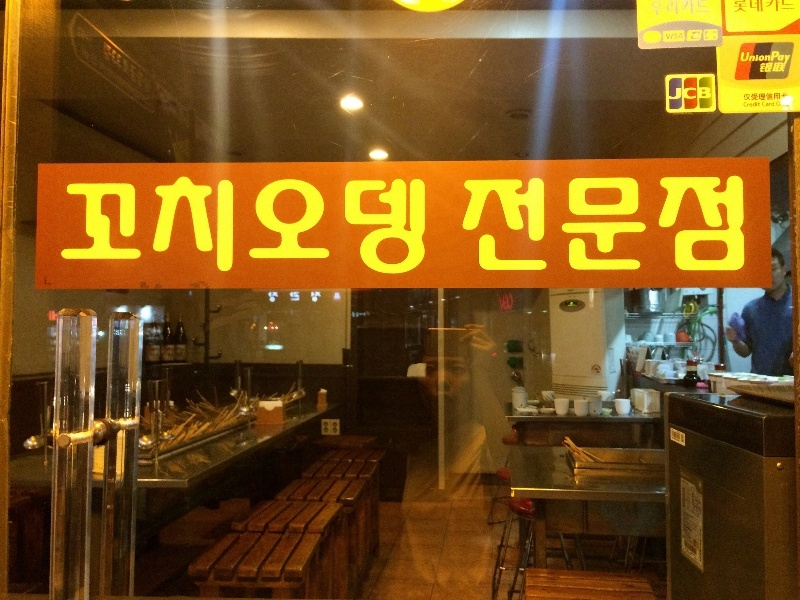text: (65, 175, 80, 279), (81, 175, 96, 279), (97, 175, 112, 279), (113, 175, 128, 279), (129, 175, 144, 279), (145, 175, 160, 279), (161, 175, 176, 279), (177, 175, 192, 279), (193, 175, 208, 279), (209, 175, 224, 279), (225, 175, 240, 279), (241, 175, 256, 279), (257, 175, 272, 279), (273, 175, 288, 279), (289, 175, 304, 279), (305, 175, 320, 279), (321, 175, 336, 279), (337, 175, 352, 279), (353, 175, 368, 279), (369, 175, 384, 279), (385, 175, 400, 279), (401, 175, 416, 279), (465, 174, 480, 276), (481, 174, 496, 276), (497, 174, 512, 276), (513, 174, 528, 276), (529, 174, 544, 276), (545, 174, 560, 276), (561, 174, 576, 276), (577, 174, 592, 276), (593, 174, 608, 276), (609, 174, 624, 276), (625, 174, 640, 276), (641, 174, 656, 276), (657, 174, 672, 276), (673, 174, 688, 276), (689, 174, 704, 276), (705, 174, 720, 276), (721, 174, 736, 276), (417, 175, 429, 279), (689, 479, 703, 563), (737, 174, 748, 276), (113, 41, 128, 96), (129, 41, 144, 96), (145, 41, 154, 96), (104, 41, 112, 96), (683, 479, 688, 563), (673, 86, 688, 102), (689, 86, 704, 102), (657, 1, 672, 17), (673, 1, 688, 17), (689, 1, 704, 17), (753, 51, 768, 65), (769, 51, 784, 65), (462, 174, 464, 276), (737, 1, 752, 13), (753, 1, 768, 13), (769, 1, 784, 13), (741, 51, 752, 65), (769, 63, 784, 73), (753, 93, 768, 101), (769, 93, 784, 101), (705, 86, 712, 102), (785, 1, 794, 13), (673, 32, 684, 41), (785, 51, 792, 65), (651, 1, 656, 17), (705, 1, 710, 17), (760, 63, 768, 73), (668, 86, 672, 102), (744, 93, 752, 101), (666, 32, 672, 41), (744, 102, 752, 107), (753, 102, 761, 107), (733, 1, 736, 13), (762, 102, 768, 107), (769, 102, 775, 107), (785, 93, 788, 101), (785, 63, 786, 73)
